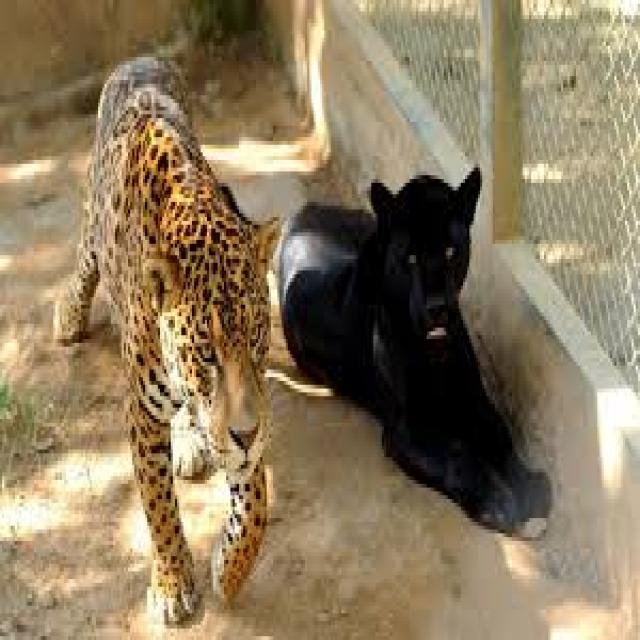Jaguar: (53, 53, 294, 617), (309, 99, 523, 564)
